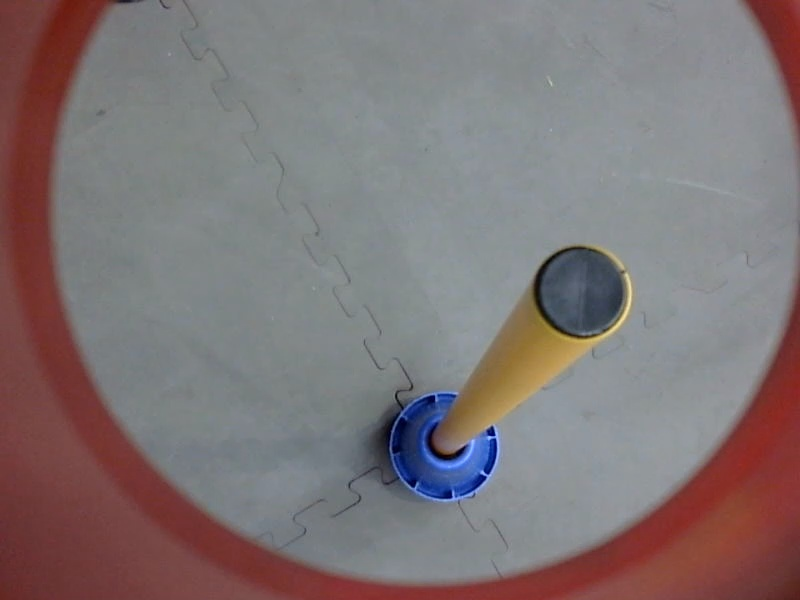tip: (530, 241, 633, 347)
